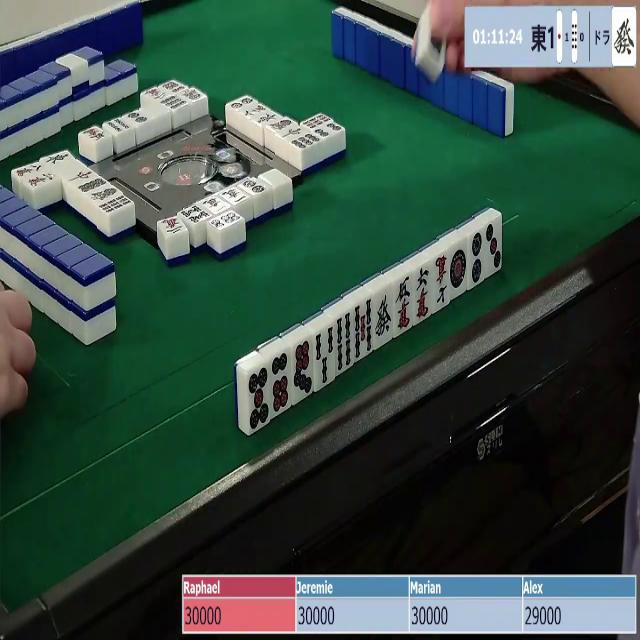fa: (614, 9, 637, 65), (376, 291, 394, 345)
m5: (396, 273, 416, 334)
m6: (414, 264, 434, 322)
m7: (433, 252, 452, 310)
s3: (312, 327, 334, 390)
s4: (335, 313, 355, 377)
s5: (351, 300, 373, 362)
t1: (450, 244, 469, 299)
t2: (469, 229, 486, 288)
t3: (485, 218, 502, 274)
t5: (246, 366, 272, 434)
t6: (269, 352, 292, 418)
t7: (290, 338, 314, 400)
